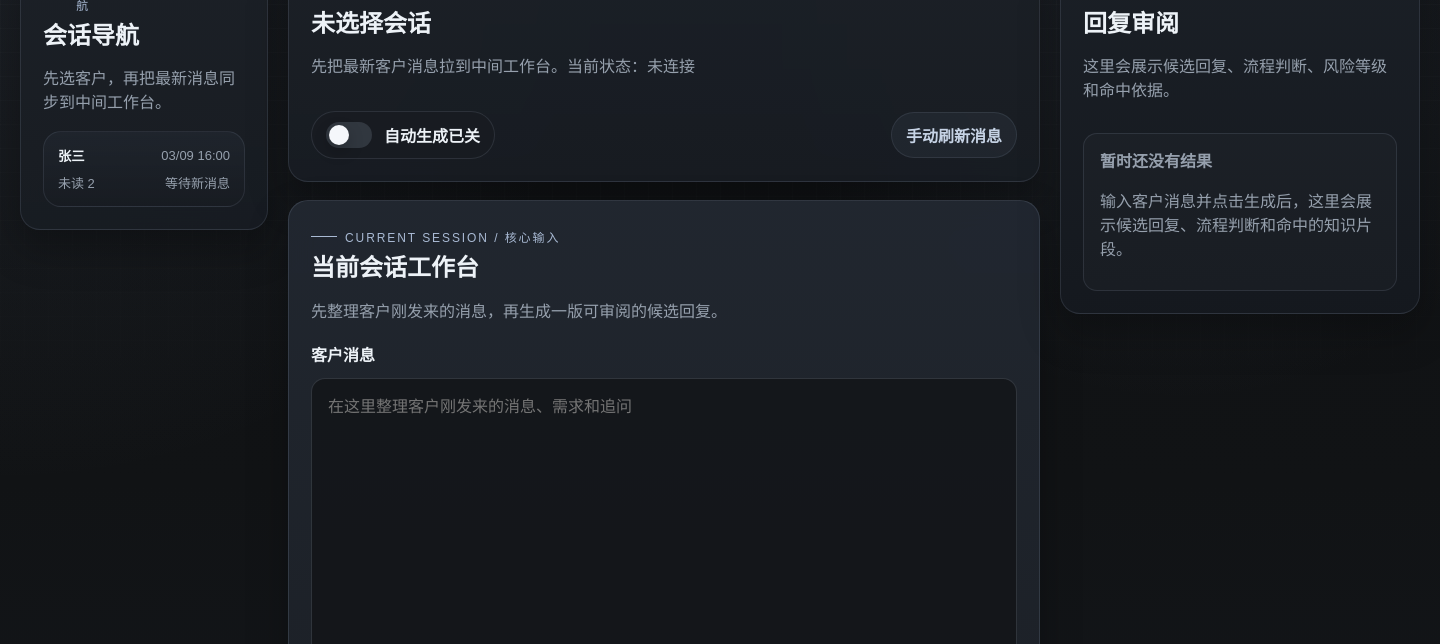
Test: App › 选择私聊会话后会加载客户消息
This screenshot has width=1440, height=644.
Click the button "张三 03/09 16:00 未读 2 等待新消息" at (144, 169), box [43, 131, 245, 207]
(page scrolled)
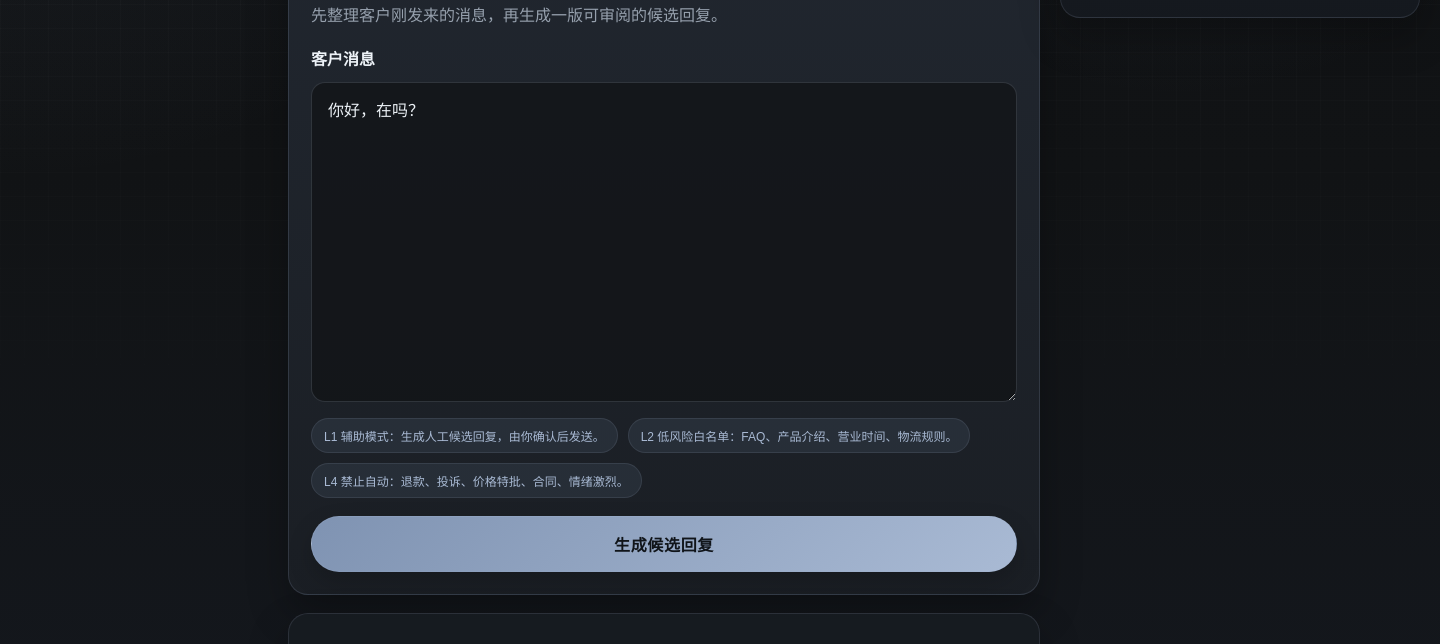
Result: the text box showing "你好，在吗？" is shown at [311, 82, 1017, 402]
